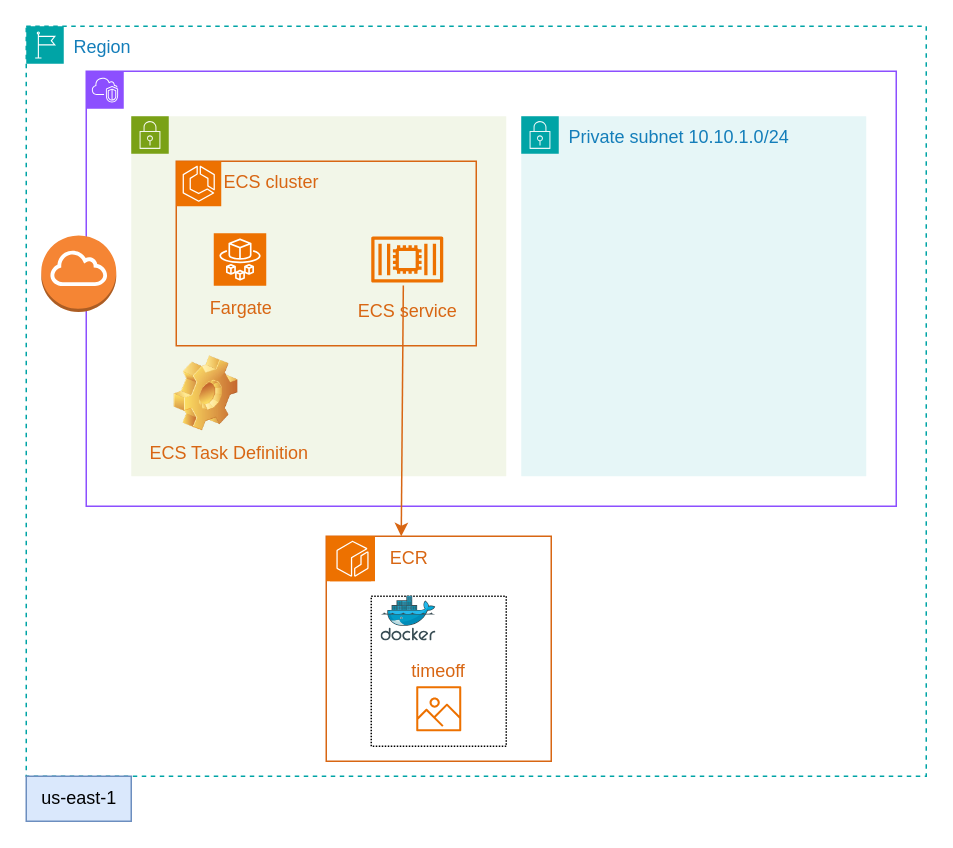
Some shapes in this 953 by 848 pixel diagram are drawn without their labels. Here are the shapes that lost their labels. From the top down, the box of each, then its label:
(130, 115, 506, 476): Public subnet 10.10.0.0/24
(85, 70, 896, 506): VPC 10.10.0.0/16
